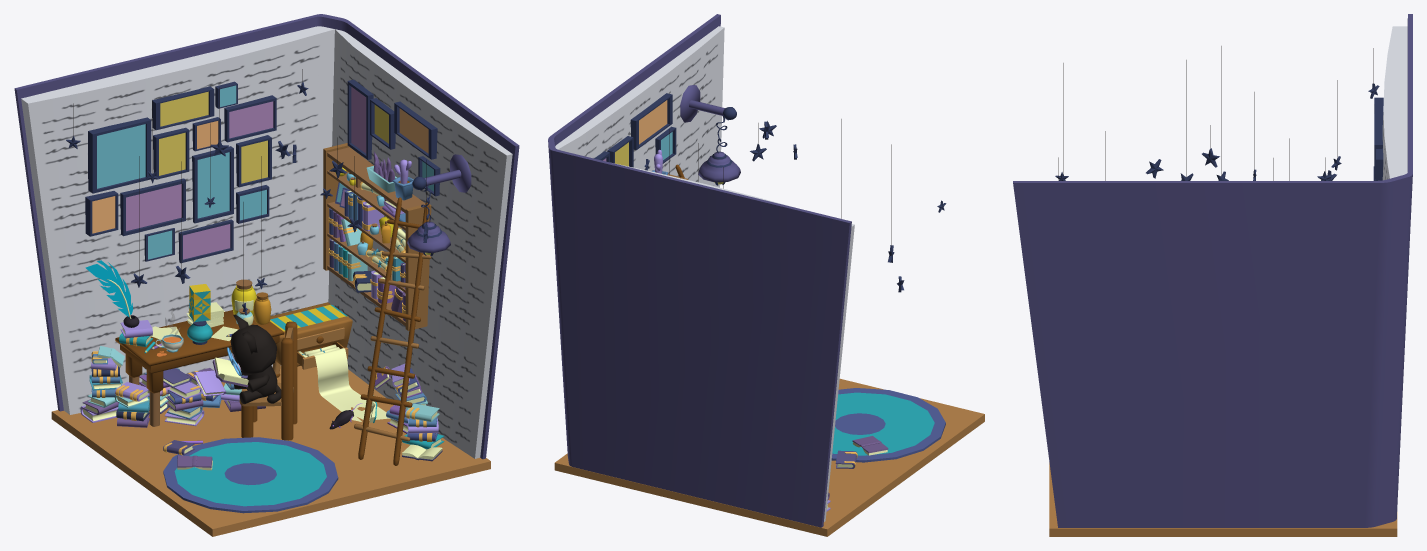
The model's file is library.glb.
3 renders of one model, left to right at view 1: azimuth 30°, elevation 25°; view 2: azimuth 150°, elevation 25°; view 3: azimuth 270°, elevation 25°, orthographic. The views are drawn at different scales.
Visible parts, largest first — view 1: SM_Wall_Book_Paper, SM_Paintings_Left, SM_FloorBoard, SM_Wall_Book_Cover, SM_Carpet, SM_Books_Table_Beneath, SM_Shelf, SM_Paintings_Right, SM_Ladder, SM_Books_Shelves, SM_Table, SM_Books_Ladder (+16 smaller); view 2: SM_Wall_Book_Cover, SM_Wall_Book_Paper, SM_FloorBoard, SM_Carpet, SM_Paintings_Right, SM_Wall_Lamp, SM_Stars, SM_Books_Carpet; view 3: SM_Wall_Book_Cover, SM_FloorBoard, SM_Wall_Book_Paper, SM_Stars, SM_Paintings_Left.
Boxes of the visible parts, x1,y1,x2,y2 form: SM_Wall_Book_Paper: (21, 26, 512, 458); SM_Paintings_Left: (85, 81, 276, 263); SM_FloorBoard: (51, 366, 490, 536); SM_Wall_Book_Cover: (14, 14, 519, 459); SM_Carpet: (163, 437, 338, 513); SM_Books_Table_Beneath: (80, 346, 265, 427); SM_Shelf: (323, 143, 431, 330); SM_Paintings_Right: (347, 79, 440, 196); SM_Ladder: (354, 197, 431, 465); SM_Books_Shelves: (328, 189, 405, 321); SM_Table: (115, 310, 284, 426); SM_Books_Ladder: (369, 363, 444, 461); SM_Wall_Book_Cover: (548, 14, 851, 527); SM_Wall_Book_Paper: (555, 26, 854, 521); SM_FloorBoard: (554, 378, 984, 536); SM_Carpet: (831, 388, 945, 462); SM_Paintings_Right: (594, 93, 676, 167); SM_Wall_Lamp: (680, 85, 740, 185); SM_Stars: (644, 119, 946, 292); SM_Books_Carpet: (835, 436, 888, 468); SM_Wall_Book_Cover: (1013, 14, 1412, 527); SM_FloorBoard: (1049, 462, 1397, 536); SM_Wall_Book_Paper: (1382, 26, 1407, 180); SM_Stars: (1055, 46, 1379, 180); SM_Paintings_Left: (1373, 97, 1383, 180).
Bounding box in the file's own units: 11.5 × 11.42 × 11.5.
Materials: 41 (1 with a texture image).
